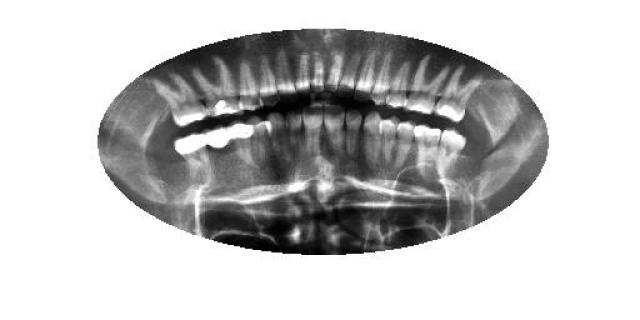Fillings: (192, 58, 242, 118), (174, 134, 210, 180), (230, 117, 255, 175), (202, 125, 230, 165)
